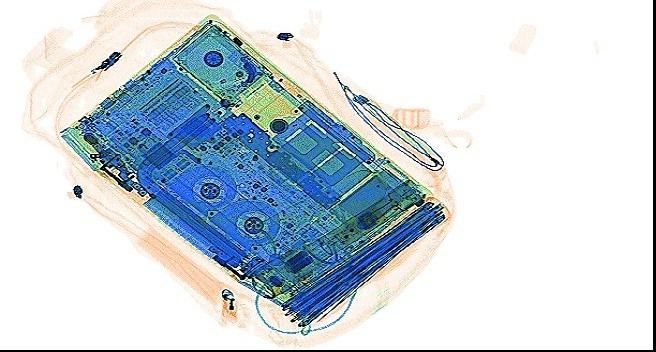lighter: (216, 287, 238, 335)
